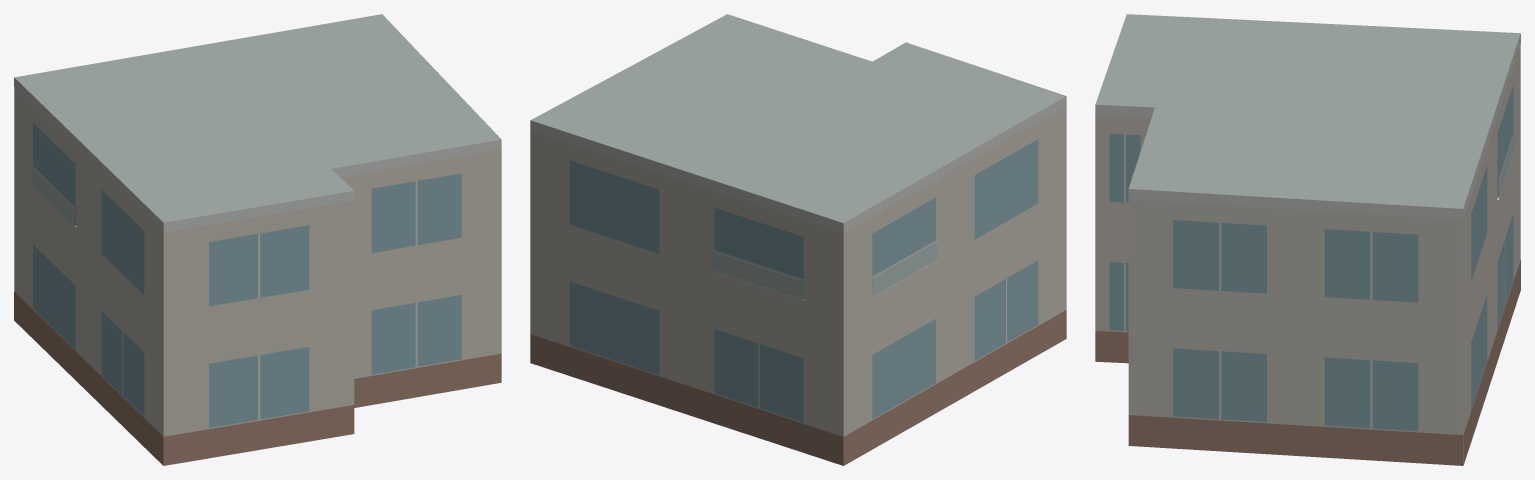
The model's file is survey-upis-32662479.glb.
The picture shows the model from 3 angles, left to right: view 1: azimuth 30°, elevation 25°; view 2: azimuth 150°, elevation 25°; view 3: azimuth 270°, elevation 25°; orthographic projection. The views are drawn at different scales.
Parts seen in each view (by area): view 1: survey-upis-32662479.tmp; view 2: survey-upis-32662479.tmp; view 3: survey-upis-32662479.tmp.
Part boxes in pixels (box(x1,y1,x2,y2)): survey-upis-32662479.tmp: box(14, 14, 501, 465); survey-upis-32662479.tmp: box(530, 14, 1066, 465); survey-upis-32662479.tmp: box(1095, 14, 1520, 465).
Bounding box in the file's own units: 9.93 × 6.1 × 9.17.
